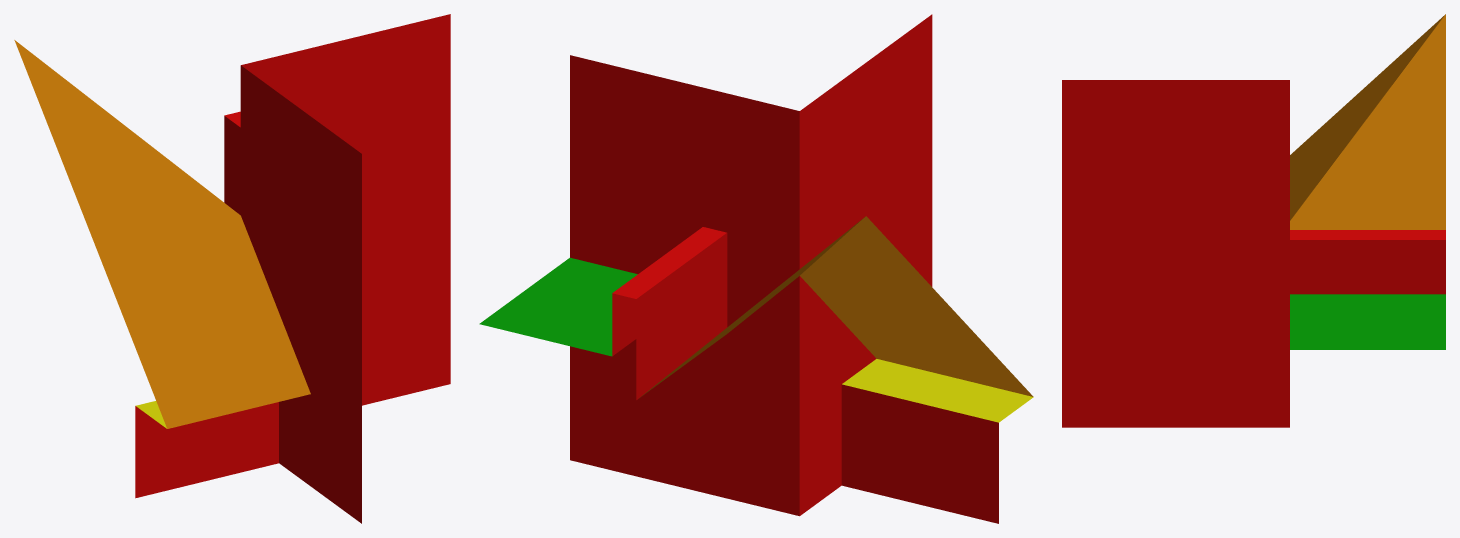
3 renders of one model, left to right at view 1: azimuth 30°, elevation 25°; view 2: azimuth 150°, elevation 25°; view 3: azimuth 270°, elevation 25°, orthographic. The views are drawn at different scales.
Parts seen in each view (by area): view 1: None_W_A_E_A_S_E_E_E_None; view 2: None_W_A_E_A_S_E_E_E_None; view 3: None_W_A_E_A_S_E_E_E_None.
Boxes of the visible parts, x1,y1,x2,y2 form: None_W_A_E_A_S_E_E_E_None: (14, 14, 450, 523); None_W_A_E_A_S_E_E_E_None: (479, 14, 1033, 523); None_W_A_E_A_S_E_E_E_None: (1062, 14, 1445, 427).
Size of the model in its own units: 100 by 100 by 100.
